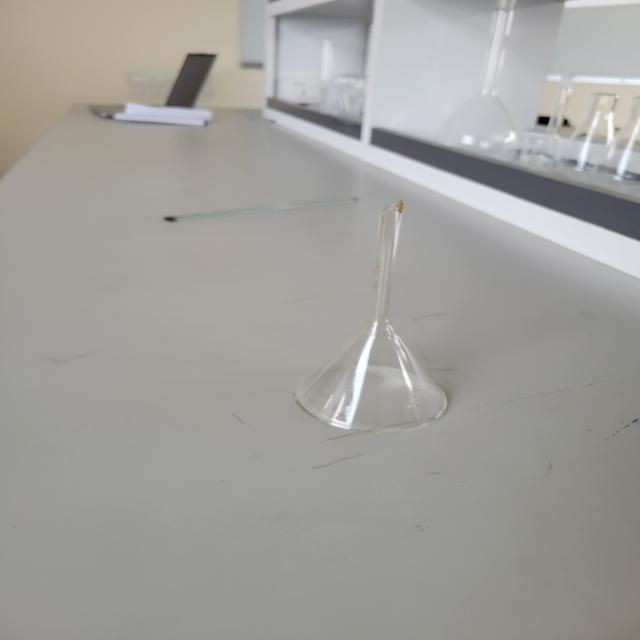Funnel: (276, 172, 477, 469)
